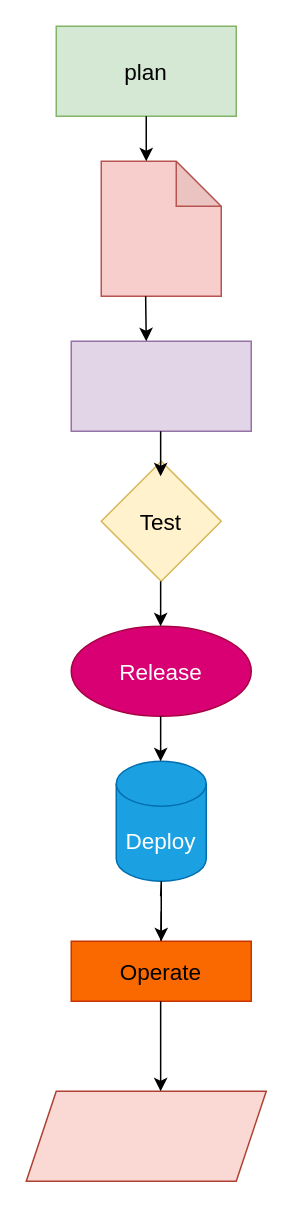
Some shapes in this 293 by 1208 pixel diagram are drawn without their labels. The box of each missing label's shape, as (x1, y1, x2, y2) in pixels:
Build: (70, 340, 251, 431)
folder: (100, 160, 221, 296)
Monitor: (25, 1090, 266, 1181)
